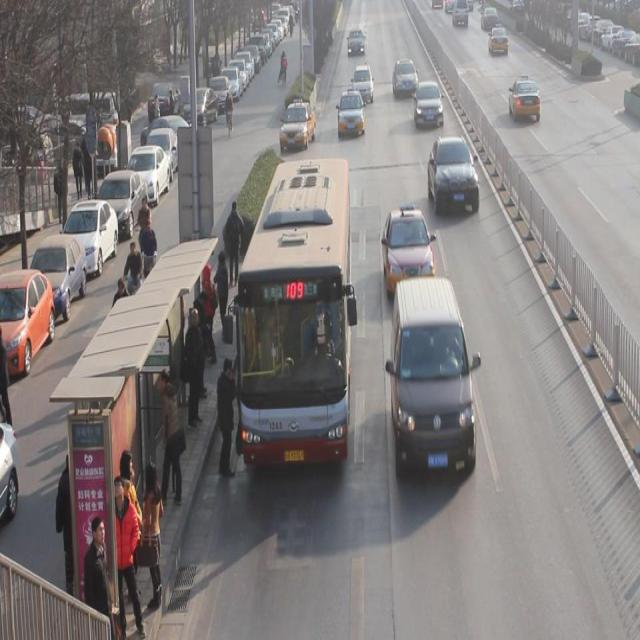car: (382, 206, 436, 288), (427, 135, 481, 215), (280, 99, 317, 150), (509, 74, 541, 122), (415, 80, 444, 127), (338, 89, 365, 137), (393, 59, 419, 97), (353, 63, 374, 104), (489, 22, 509, 56), (347, 28, 366, 57)
truck: (390, 278, 476, 473)
van: (232, 158, 350, 464)
